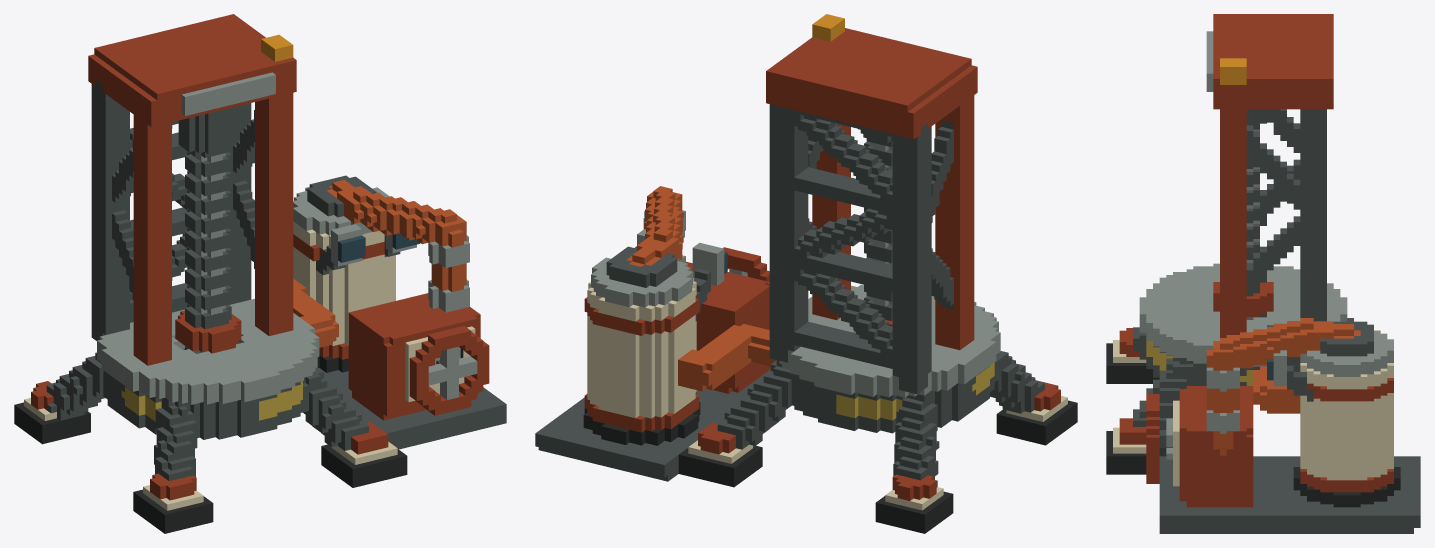
The model's file is geothermal_drill.glb.
The picture shows the model from 3 angles, left to right: view 1: azimuth 30°, elevation 25°; view 2: azimuth 150°, elevation 25°; view 3: azimuth 270°, elevation 25°; orthographic projection. The views are drawn at different scales.
Visible parts, largest first — view 1: geothermal_drill; view 2: geothermal_drill; view 3: geothermal_drill.
Boxes of the visible parts, left/top/right/bottom form: geothermal_drill: left=14, top=14, right=506, bottom=533; geothermal_drill: left=535, top=14, right=1077, bottom=533; geothermal_drill: left=1106, top=14, right=1420, bottom=533.
Size of the model in its own units: 5.49 by 5.67 by 4.23.
